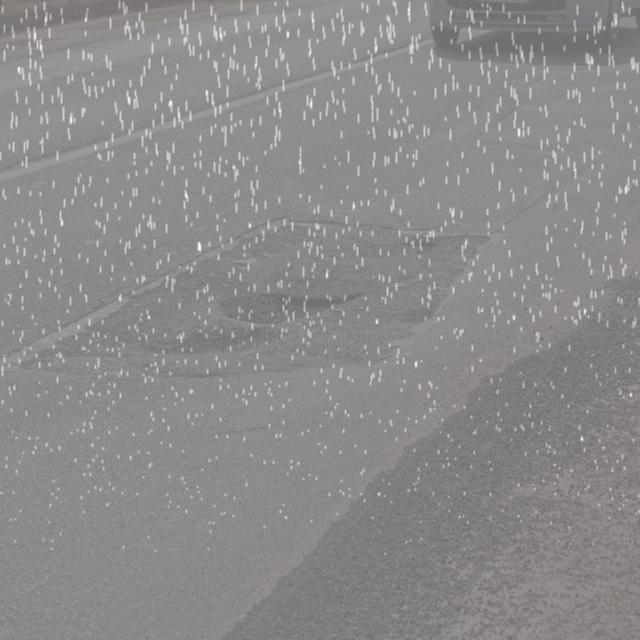Pothole: (158, 276, 355, 362), (231, 214, 327, 256)
